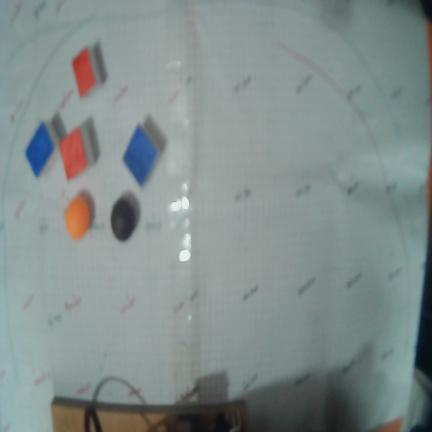circle_blue: (111, 192, 140, 241)
circle_orange: (65, 196, 89, 239)
rectangle_blue: (23, 120, 56, 178)
rectangle_orange: (74, 47, 96, 100)
square_blue: (124, 126, 158, 185)
square_orange: (60, 128, 88, 179)
